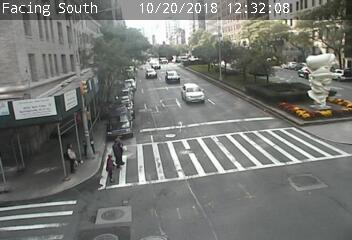car: (180, 83, 206, 102), (164, 71, 181, 83), (145, 69, 158, 79)
